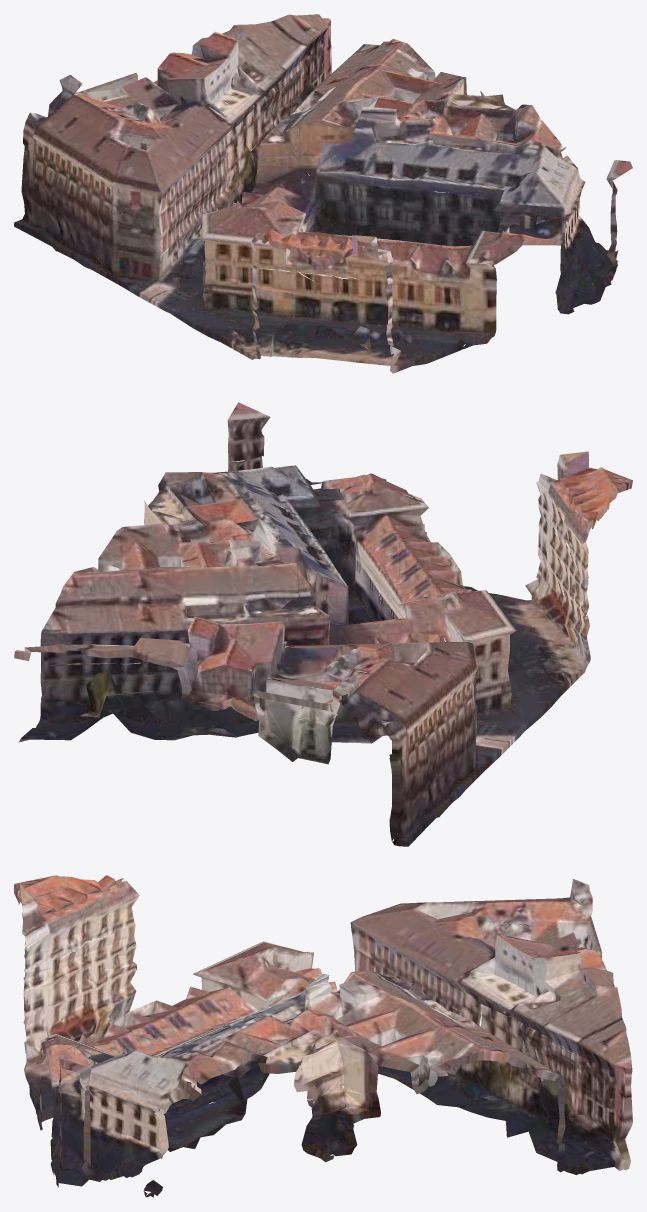
The picture shows the model from 3 angles, top to bottom: view 1: azimuth 30°, elevation 25°; view 2: azimuth 150°, elevation 25°; view 3: azimuth 270°, elevation 25°; orthographic projection. The views are drawn at different scales.
Parts seen in each view (by area): view 1: Mesh_0; view 2: Mesh_0; view 3: Mesh_0.
Boxes of the visible parts, x1,y1,x2,y2 form: Mesh_0: [14, 14, 632, 373]; Mesh_0: [14, 402, 632, 846]; Mesh_0: [14, 875, 632, 1197].
Size of the model in its own units: 66.86 by 25.66 by 82.5.
Materials: 2 (2 with a texture image).
